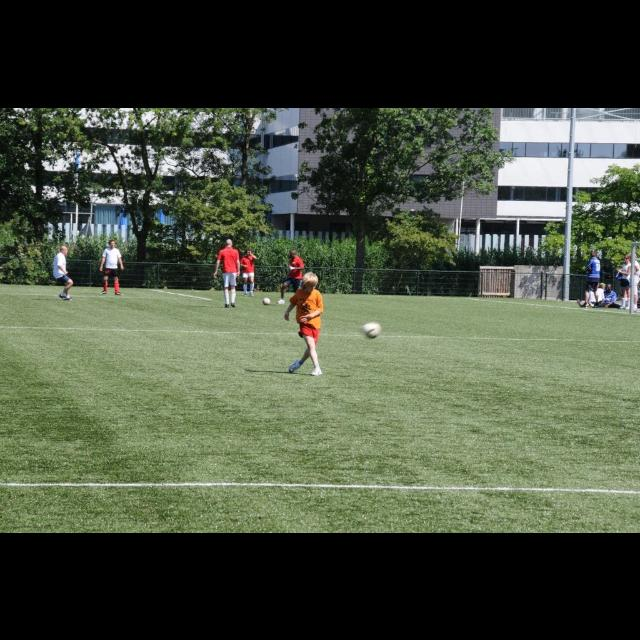Football: (362, 322, 378, 338), (261, 295, 271, 305)
